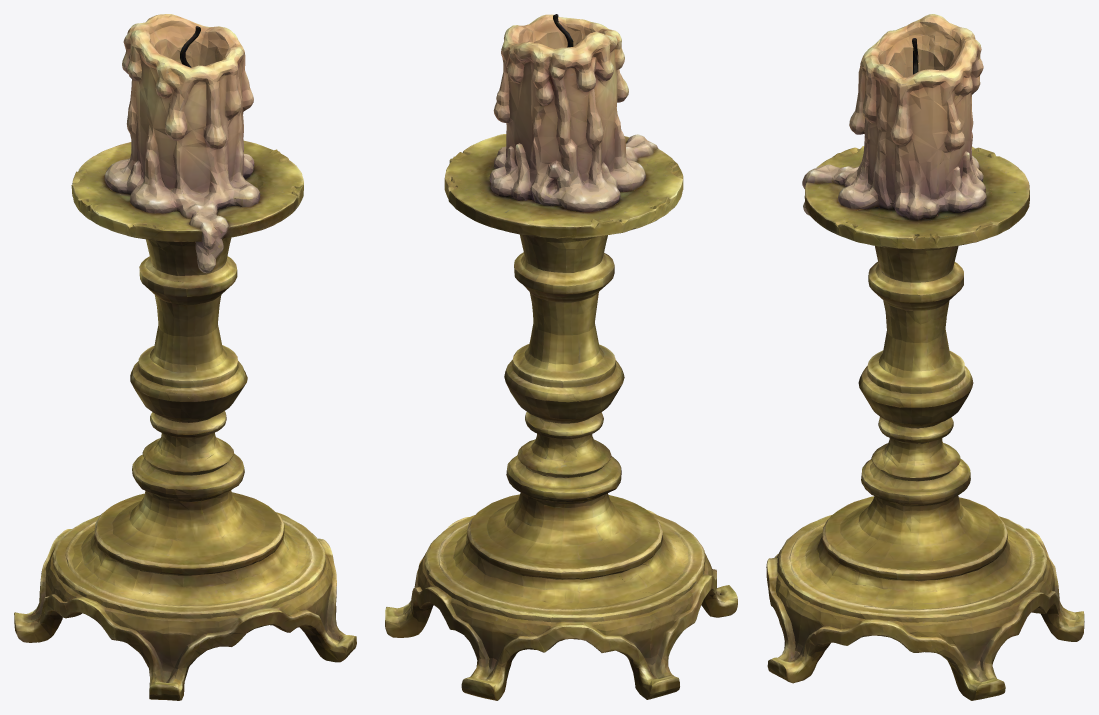
File: dress-candle.glb
3 renders of one model, left to right at view 1: azimuth 30°, elevation 25°; view 2: azimuth 150°, elevation 25°; view 3: azimuth 270°, elevation 25°, orthographic. The views are drawn at different scales.
Bounding box in the file's own units: 0.4947 × 0.9992 × 0.4797.
1 material, 1 textured.
